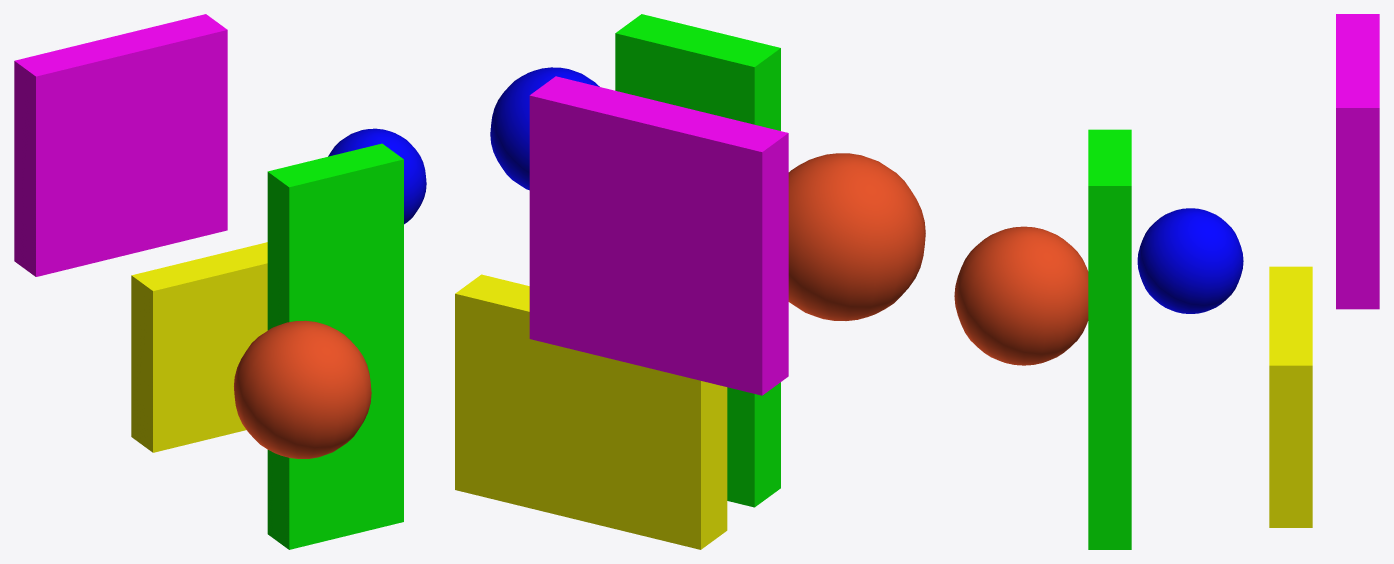
The model's file is cece.glb.
The picture shows the model from 3 angles, left to right: view 1: azimuth 30°, elevation 25°; view 2: azimuth 150°, elevation 25°; view 3: azimuth 270°, elevation 25°; orthographic projection. The views are drawn at different scales.
Parts seen in each view (by area): view 1: pCube3, pCube1, pCube2, pSphere2, pSphere1; view 2: pCube3, pCube2, pCube1, pSphere2, pSphere1; view 3: pCube1, pSphere2, pCube3, pCube2, pSphere1.
Part boxes in pixels (left/top/right/bottom): pCube3: left=14, top=14, right=227, bottom=276; pCube1: left=267, top=143, right=403, bottom=549; pCube2: left=131, top=242, right=267, bottom=452; pSphere2: left=234, top=320, right=371, bottom=458; pSphere1: left=328, top=128, right=426, bottom=224; pCube3: left=529, top=76, right=788, bottom=395; pCube2: left=455, top=274, right=727, bottom=549; pCube1: left=615, top=14, right=780, bottom=507; pSphere2: left=788, top=153, right=925, bottom=320; pSphere1: left=490, top=67, right=599, bottom=190; pCube1: left=1088, top=129, right=1131, bottom=549; pSphere2: left=954, top=226, right=1088, bottom=365; pCube3: left=1336, top=14, right=1379, bottom=309; pCube2: left=1269, top=266, right=1312, bottom=527; pSphere1: left=1137, top=208, right=1243, bottom=313.
Bounding box in the file's own units: 4.1 × 5.22 × 4.83.
